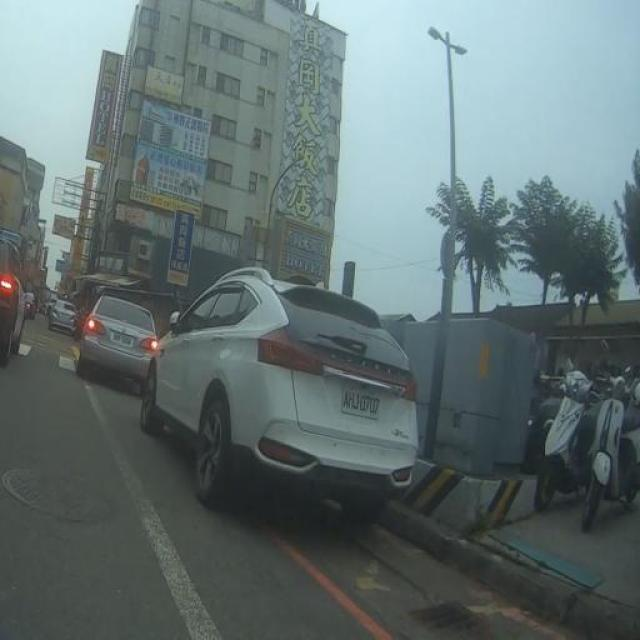Legalparking: (549, 356, 640, 570)
illegalparking: (47, 274, 432, 562)
